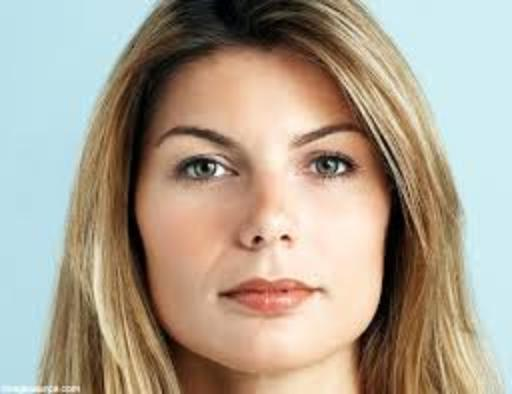left_eye: (299, 154, 360, 179)
left_lip_corner: (303, 282, 335, 300)
right_eye: (175, 157, 242, 183)
right_lip_corner: (207, 287, 235, 306)
